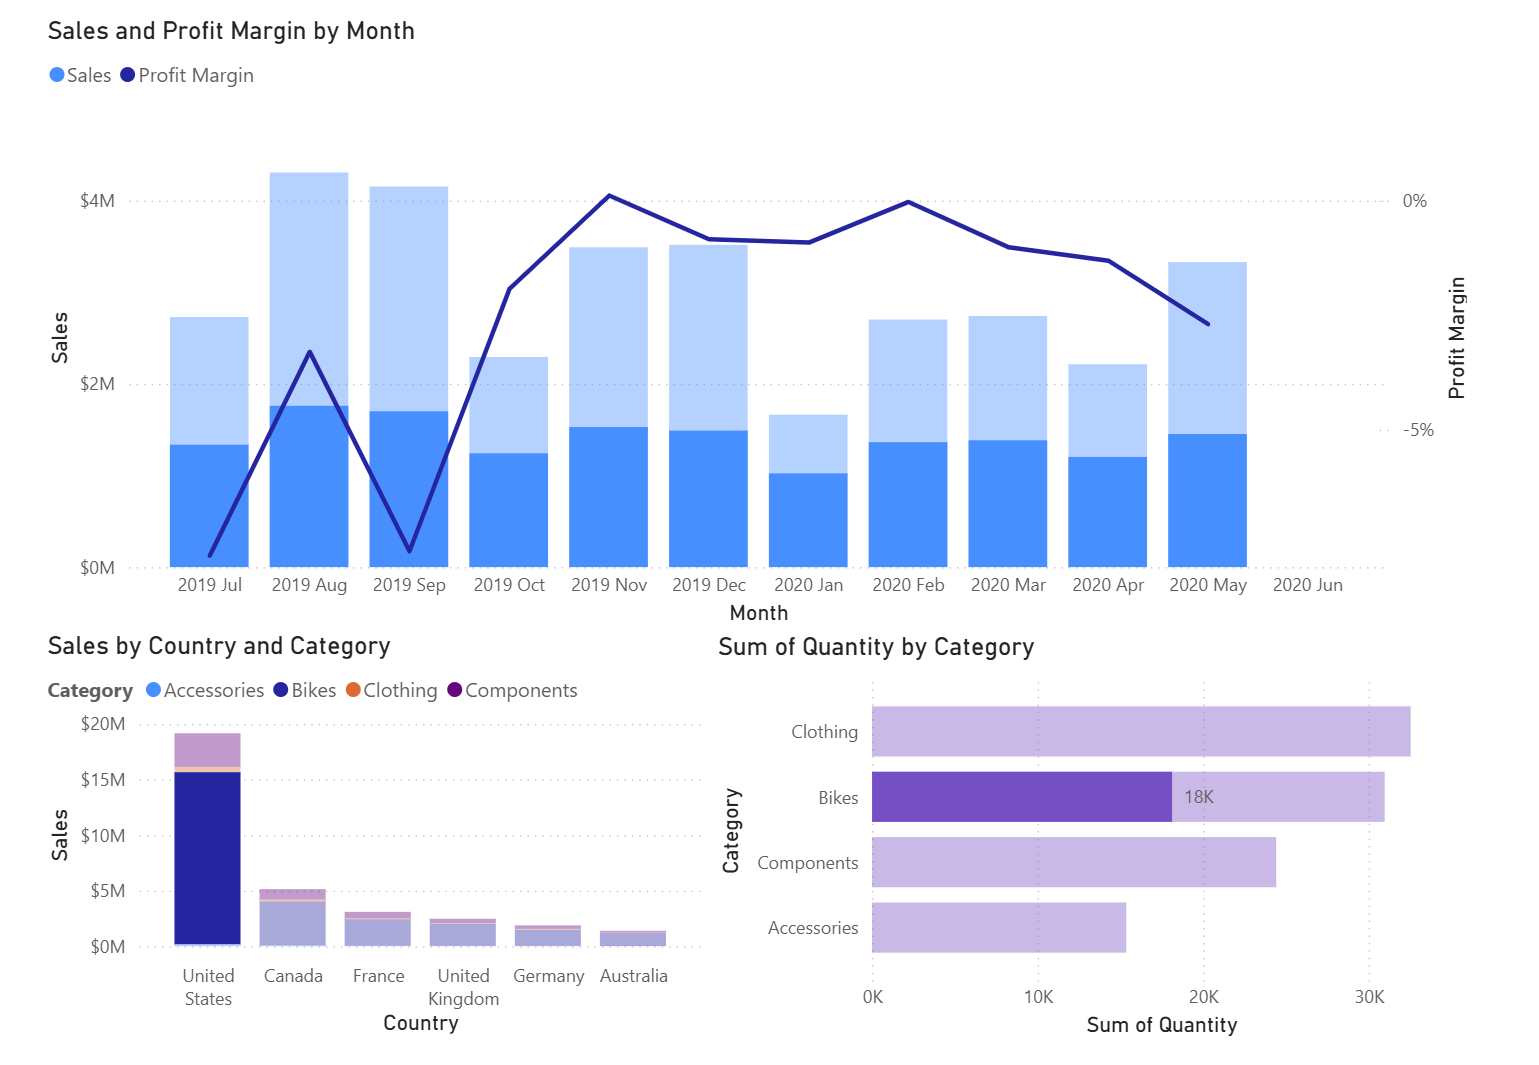

Layout of this report page (visuals, bound fields, positions):
{"tool":"powerbi","page":{"name":"Overview","canvas":[1280,720],"ordinal":0},"visuals":[{"type":"image","box":[10,16,170,170],"z":0},{"type":"slicer","fields":{"Values":["Date.Year"]},"box":[10,208,170,71],"z":1000},{"type":"slicer","fields":{"Values":["Region.Region"]},"box":[10,311,170,393],"z":2000},{"type":"lineStackedColumnComboChart","fields":{"Category":["Date.Month"],"Y":["Sum(Sales.Sales)"],"Y2":["Sales.Profit Margin"]},"box":[270,15.7,961.4,412.9],"z":3000},{"type":"columnChart","fields":{"Category":["Region.Country"],"Y":["Sum(Sales.Sales)"],"Series":["Product.Category"]},"box":[270,428.6,448.6,275.7],"z":4000},{"type":"barChart","fields":{"Category":["Product.Category"],"Y":["Sum(Sales.Quantity)"]},"box":[719,429,512,276],"z":5000}]}

Visuals, with their boxes on the page's 1280x720 design canvas (x1, y1, x2, y2). These are canvas units, not pixel positions in the 1539x1065 screenshot, which may show the page scaled, cropped or inside an application window:
image: [10, 16, 180, 186]
slicer - Date.Year: [10, 208, 180, 279]
slicer - Region.Region: [10, 311, 180, 704]
lineStackedColumnComboChart - Date.Month x Sum(Sales.Sales): [270, 16, 1231, 429]
columnChart - Region.Country x Sum(Sales.Sales): [270, 429, 719, 704]
barChart - Product.Category x Sum(Sales.Quantity): [719, 429, 1231, 705]
